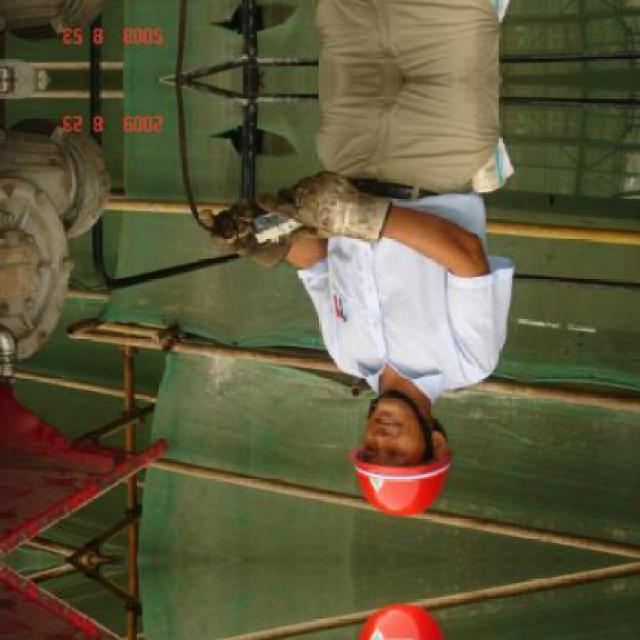con casco: (317, 378, 451, 534)
